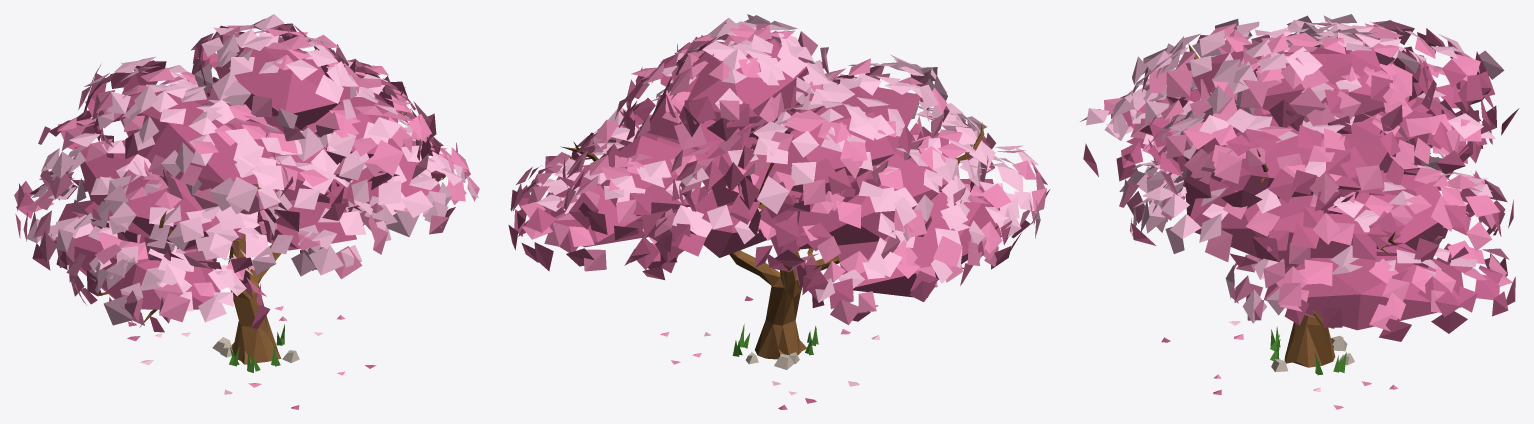
Rendered from cherry_1_bloom.glb.
The picture shows the model from 3 angles, left to right: view 1: azimuth 30°, elevation 25°; view 2: azimuth 150°, elevation 25°; view 3: azimuth 270°, elevation 25°; orthographic projection. The views are drawn at different scales.
Parts seen in each view (by area): view 1: cherry_1_bloom; view 2: cherry_1_bloom; view 3: cherry_1_bloom.
Boxes of the visible parts, x1,y1,x2,y2 form: cherry_1_bloom: (14, 14, 479, 409); cherry_1_bloom: (508, 14, 1050, 409); cherry_1_bloom: (1080, 14, 1519, 409).
Size of the model in its own units: 10.1 by 7.08 by 8.43.
